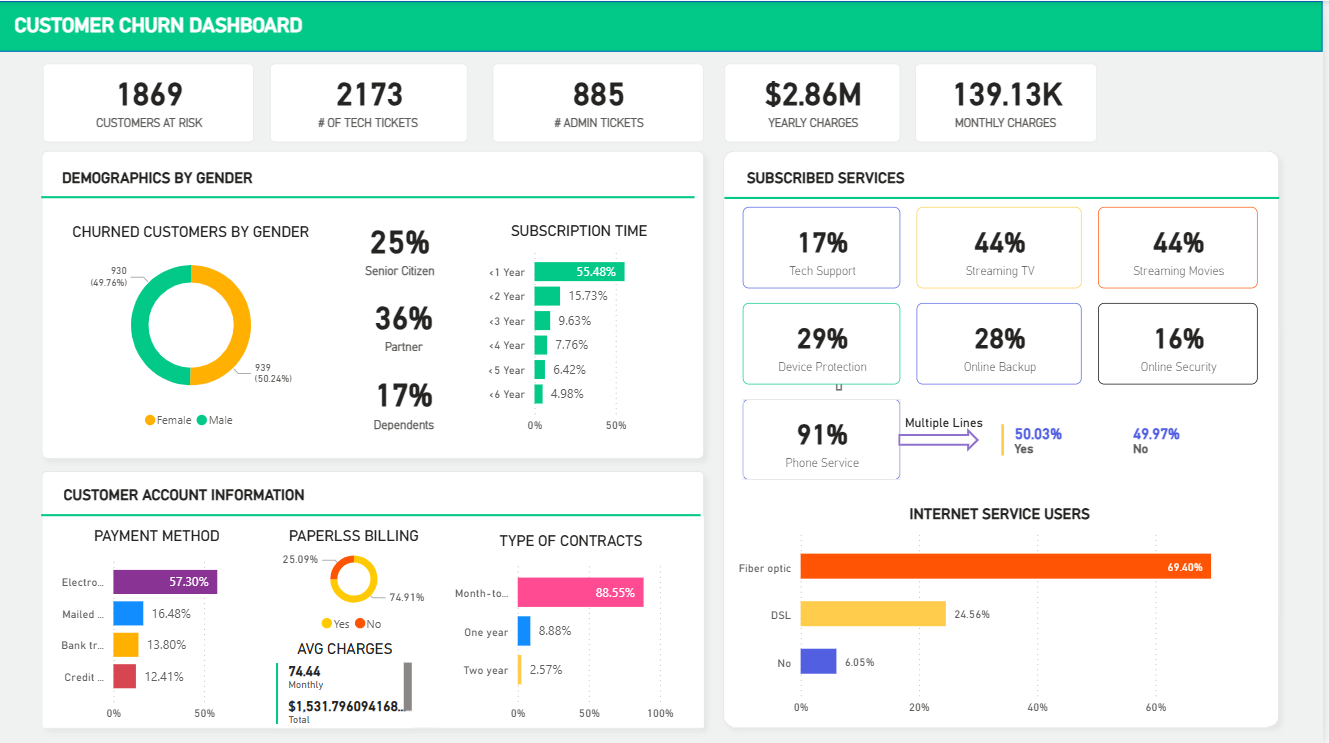

Layout of this report page (visuals, bound fields, positions):
{"tool":"powerbi","page":{"name":"Churn Dashboard","canvas":[1280,720],"ordinal":0},"visuals":[{"type":"shape","box":[0,0,1280,49],"z":0},{"type":"shape","box":[34,136,658,316],"z":0,"group":"g1"},{"type":"card","fields":{"Values":["Churn.% Tech Support"]},"box":[720,199,152.4,78.4],"z":0,"group":"g4"},{"type":"shape","box":[692,136,555,575],"z":1000},{"type":"card","fields":{"Values":["Churn.% Streaming TV"]},"box":[887.4,199,159.5,78.4],"z":1000,"group":"g4"},{"type":"donutChart","title":"CHURNED CUSTOMERS BY GENDER","fields":{"Category":["01 Churn-Dataset.gender"],"Y":["CountNonNull(01 Churn-Dataset.gender)"]},"box":[61.1,204.4,252.2,223.4],"z":1000,"group":"g1"},{"type":"shape","box":[702,123,536,133],"z":1500,"group":"g3"},{"type":"shape","box":[42,430,636.8,133],"z":1500,"group":"g2"},{"type":"textbox","box":[12,8,438,33],"z":2000},{"type":"textbox","box":[703.8,145,522.6,38],"z":2000,"group":"g3"},{"type":"textbox","box":[42.7,146.1,630.9,47.3],"z":2000,"group":"g1"},{"type":"card","fields":{"Values":["Churn.% Streaming Movies"]},"box":[1062.8,199,154.2,78.4],"z":2000,"group":"g4"},{"type":"textbox","box":[44.2,452,636.8,38],"z":2000,"group":"g2"},{"type":"card","fields":{"Values":["Churn.% of Senior Citizen"]},"box":[330.5,204.4,118,77.5],"z":3000,"group":"g1"},{"type":"card","fields":{"Values":["Churn.% Device Protection"]},"box":[720,291.6,152.4,78.4],"z":3000,"group":"g4"},{"type":"shape","box":[34,444,658,267],"z":3000},{"type":"card","fields":{"Values":["CountNonNull(01 Churn-Dataset.customerID)"]},"box":[44,60,204,76],"z":4000},{"type":"card","fields":{"Values":["Churn.% of partner"]},"box":[329.5,278.9,125.5,74.5],"z":4000,"group":"g1"},{"type":"card","fields":{"Values":["Churn.% Online Backup"]},"box":[887.4,291.6,159.5,78.4],"z":4000,"group":"g4"},{"type":"shape","box":[42.7,151.1,630.9,78.5],"z":5000,"group":"g1"},{"type":"card","fields":{"Values":["Churn.% Online Sec"]},"box":[1062.8,291.6,154.2,78.4],"z":5000,"group":"g4"},{"type":"card","fields":{"Values":["Churn.% Phone Service"]},"box":[720,385,152,78],"z":5000},{"type":"card","fields":{"Values":["Sum(01 Churn-Dataset.numTechTickets)"]},"box":[264,60,191,76],"z":6000},{"type":"card","fields":{"Values":["Churn.% of Dependents"]},"box":[329.5,351.4,125.5,79.5],"z":6000,"group":"g1"},{"type":"clusteredBarChart","title":"SUBSCRIPTION TIME","fields":{"Y":["CountNonNull(Churn.Churn)"],"Category":["Churn.Tenure(in years)"]},"box":[466.9,204.4,190.5,220.4],"z":7000,"group":"g1"},{"type":"clusteredBarChart","title":"PAYMENT METHOD","fields":{"Y":["CountNonNull(Churn.PaymentMethod)"],"Category":["Churn.PaymentMethod"]},"box":[44,497,220,204],"z":7000},{"type":"card","fields":{"Values":["Sum(01 Churn-Dataset.TotalCharges)"]},"box":[702,60,170,76],"z":8000},{"type":"card","fields":{"Values":["Sum(01 Churn-Dataset.numAdminTickets)"]},"box":[479,60,204,76],"z":9000},{"type":"group","id":"g1","title":"Group 1","box":[34,136,658,316],"z":10000},{"type":"card","fields":{"Values":["Sum(01 Churn-Dataset.MonthlyCharges)"]},"box":[887,60,176,76],"z":11000},{"type":"donutChart","title":"PAPERLSS BILLING","fields":{"Category":["Churn.PaperlessBilling"],"Y":["CountNonNull(Churn.PaperlessBilling)"]},"box":[248,497,194,126],"z":12000},{"type":"multiRowCard","title":"AVG CHARGES","fields":{"Values":["Avg(Churn.MonthlyCharges)","Avg(Churn.TotalCharges)"]},"box":[264,606,143,95],"z":13000},{"type":"clusteredBarChart","title":"TYPE OF CONTRACTS","fields":{"Category":["Churn.Contract"],"Y":["CountNonNull(Churn.Contract)"]},"box":[426,497,257,204],"z":14000},{"type":"group","id":"g2","title":"Group 2","box":[42,430,639,133],"z":15000},{"type":"group","id":"g3","title":"Group 2","box":[702,123,536,133],"z":16000},{"type":"group","id":"g4","title":"Group 3","box":[720,199,497,171],"z":17000},{"type":"shape","box":[871,412,78,23],"z":18000},{"type":"textbox","box":[872,391,300,30],"z":19000},{"type":"multiRowCard","fields":{"Values":["Churn.% Yes-Multiple Lines","Churn.% No-Multiple Lines"]},"box":[965,404,252,53],"z":20000},{"type":"barChart","title":"INTERNET SERVICE USERS","fields":{"Y":["CountNonNull(Churn.InternetService)"],"Category":["Churn.InternetService"]},"box":[710,471,517,230],"z":21000},{"type":"qnaVisual","box":[1130,136,150,575],"z":21001}]}

Visuals, with their boxes in screenshot pixels (x1, y1, x2, y2), scaled from the page's 1280x720 canvas onto the 1329x743 screenshot:
shape: 0,0,1328,51
shape: 35,140,718,466
card - Churn.% Tech Support: 748,205,906,286
shape: 718,140,1295,734
card - Churn.% Streaming TV: 921,205,1087,286
"CHURNED CUSTOMERS BY GENDER" donutChart: 63,211,325,441
shape: 729,127,1285,264
shape: 44,444,705,581
textbox: 12,8,467,42
textbox: 731,150,1273,189
textbox: 44,151,699,200
card - Churn.% Streaming Movies: 1103,205,1264,286
textbox: 46,466,707,506
card - Churn.% of Senior Citizen: 343,211,466,291
card - Churn.% Device Protection: 748,301,906,382
shape: 35,458,718,734
card - CountNonNull(01 Churn-Dataset.customerID): 46,62,257,140
card - Churn.% of partner: 342,288,472,365
card - Churn.% Online Backup: 921,301,1087,382
shape: 44,156,699,237
card - Churn.% Online Sec: 1103,301,1264,382
card - Churn.% Phone Service: 748,397,905,478
card - Sum(01 Churn-Dataset.numTechTickets): 274,62,472,140
card - Churn.% of Dependents: 342,363,472,445
"SUBSCRIPTION TIME" clusteredBarChart: 485,211,683,438
"PAYMENT METHOD" clusteredBarChart: 46,513,274,723
card - Sum(01 Churn-Dataset.TotalCharges): 729,62,905,140
card - Sum(01 Churn-Dataset.numAdminTickets): 497,62,709,140
"Group 1" group: 35,140,718,466
card - Sum(01 Churn-Dataset.MonthlyCharges): 921,62,1104,140
"PAPERLSS BILLING" donutChart: 257,513,459,643
"AVG CHARGES" multiRowCard: 274,625,423,723
"TYPE OF CONTRACTS" clusteredBarChart: 442,513,709,723
"Group 2" group: 44,444,707,581
"Group 2" group: 729,127,1285,264
"Group 3" group: 748,205,1264,382
shape: 904,425,985,449
textbox: 905,403,1217,434
multiRowCard - Churn.% Yes-Multiple Lines x Churn.% No-Multiple Lines: 1002,417,1264,472
"INTERNET SERVICE USERS" barChart: 737,486,1274,723
qnaVisual: 1173,140,1328,734
